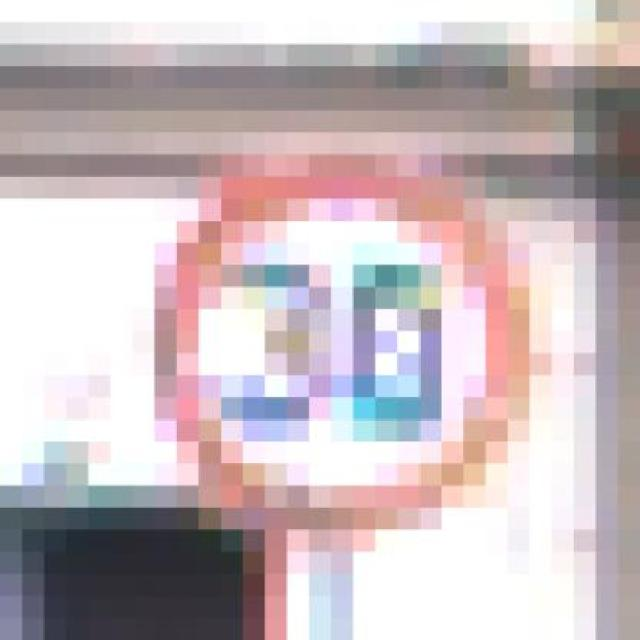Speed Limit 30 KMPh: (44, 110, 596, 596)
